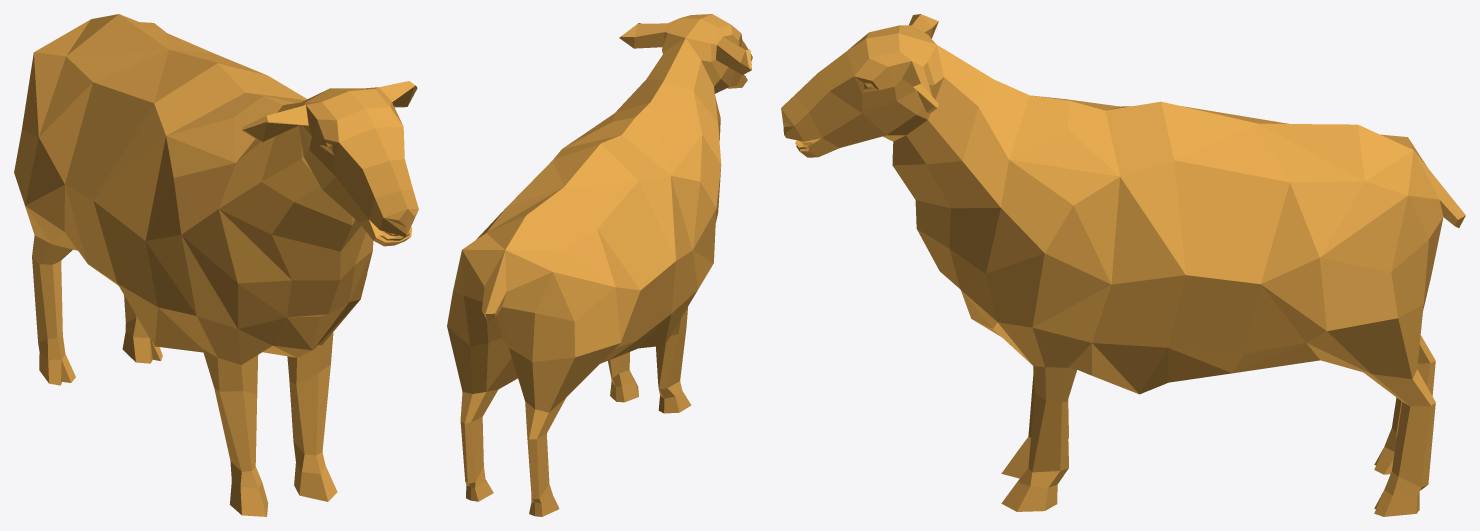
File: sheep-white.fbx
The picture shows the model from 3 angles, left to right: view 1: azimuth 30°, elevation 25°; view 2: azimuth 150°, elevation 25°; view 3: azimuth 270°, elevation 25°; orthographic projection. The views are drawn at different scales.
Parts seen in each view (by area): view 1: sheep-white; view 2: sheep-white; view 3: sheep-white.
Part boxes in pixels (x1,y1,x2,y2): sheep-white: [14, 14, 418, 516]; sheep-white: [447, 14, 752, 516]; sheep-white: [781, 14, 1465, 516].
Size of the model in its own units: 0.4475 by 0.8723 by 1.19.
